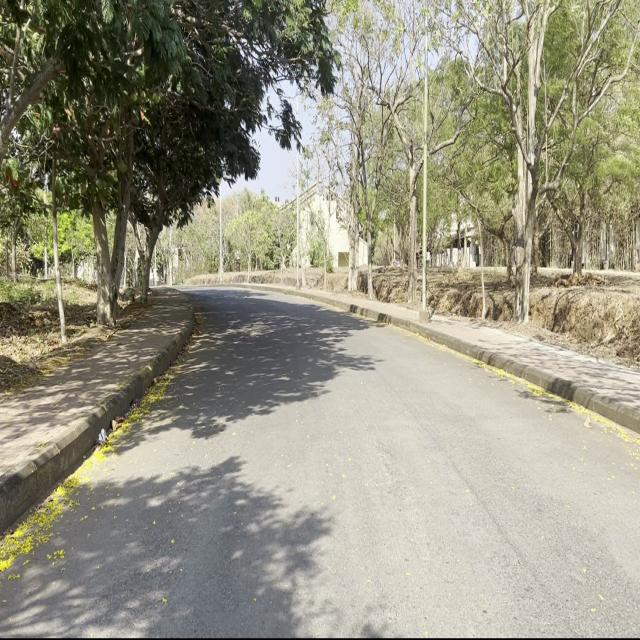Road: (5, 286, 635, 633)
